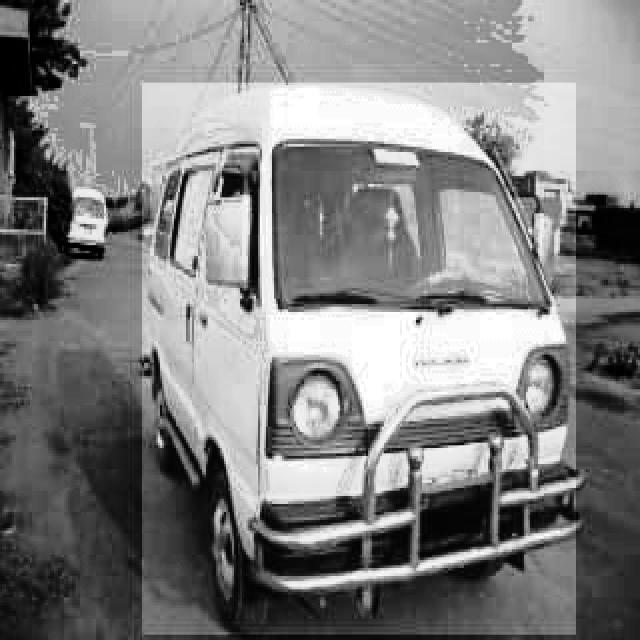LCV: (140, 83, 576, 637)
